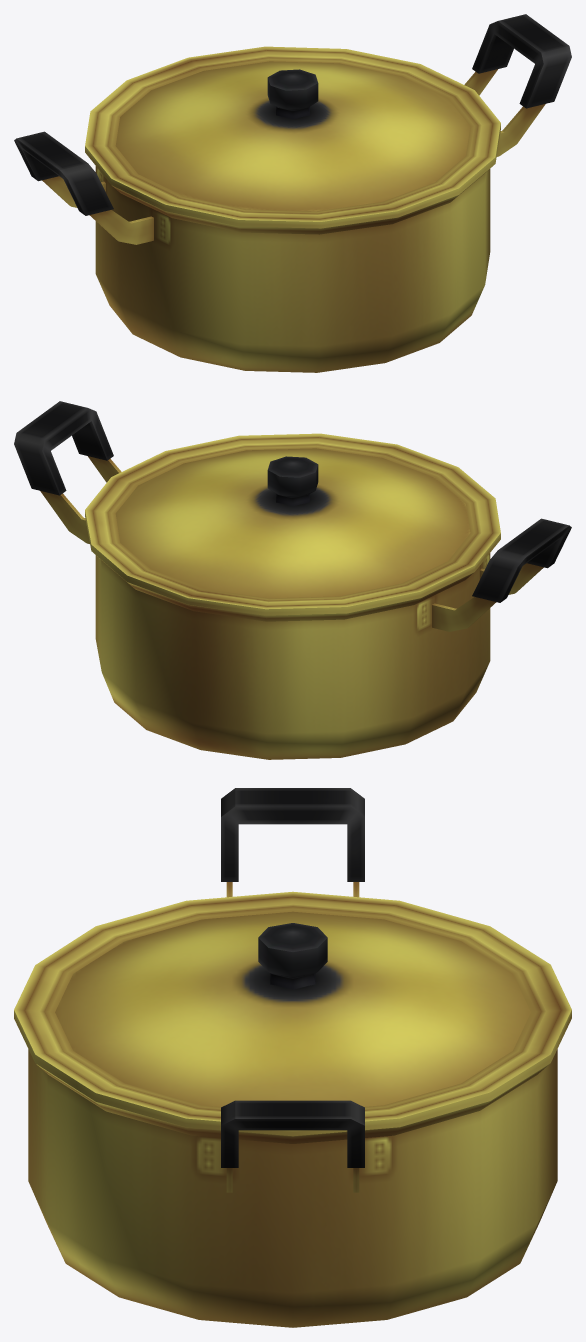
File: KR_Pot_02_01.fbx
The picture shows the model from 3 angles, top to bottom: view 1: azimuth 30°, elevation 25°; view 2: azimuth 150°, elevation 25°; view 3: azimuth 270°, elevation 25°; orthographic projection. The views are drawn at different scales.
Visible parts, largest first — view 1: pot01, lid01; view 2: pot01, lid01; view 3: pot01, lid01.
Part boxes in pixels (<box>): pot01: <box>14,14,571,372</box>; lid01: <box>85,46,500,228</box>; pot01: <box>14,401,571,759</box>; lid01: <box>85,433,500,615</box>; pot01: <box>28,788,557,1327</box>; lid01: <box>14,891,571,1136</box>.
Bounding box in the file's own units: 33.43 × 13.73 × 23.83.
